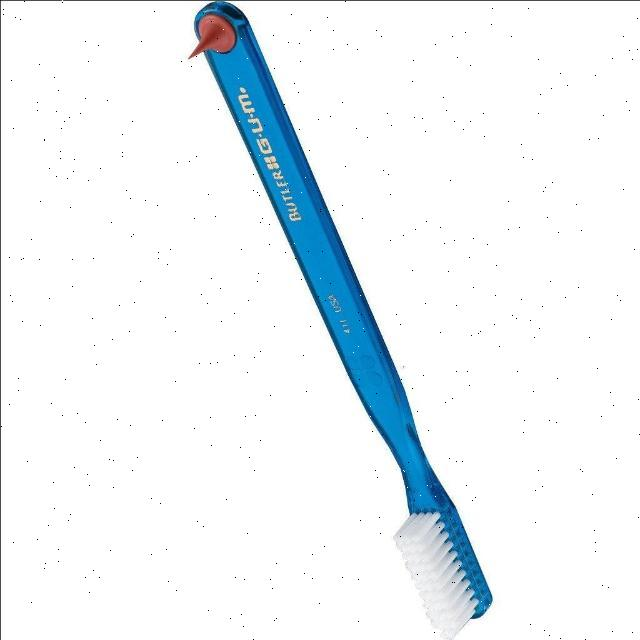toothbrush: (140, 0, 532, 640)
